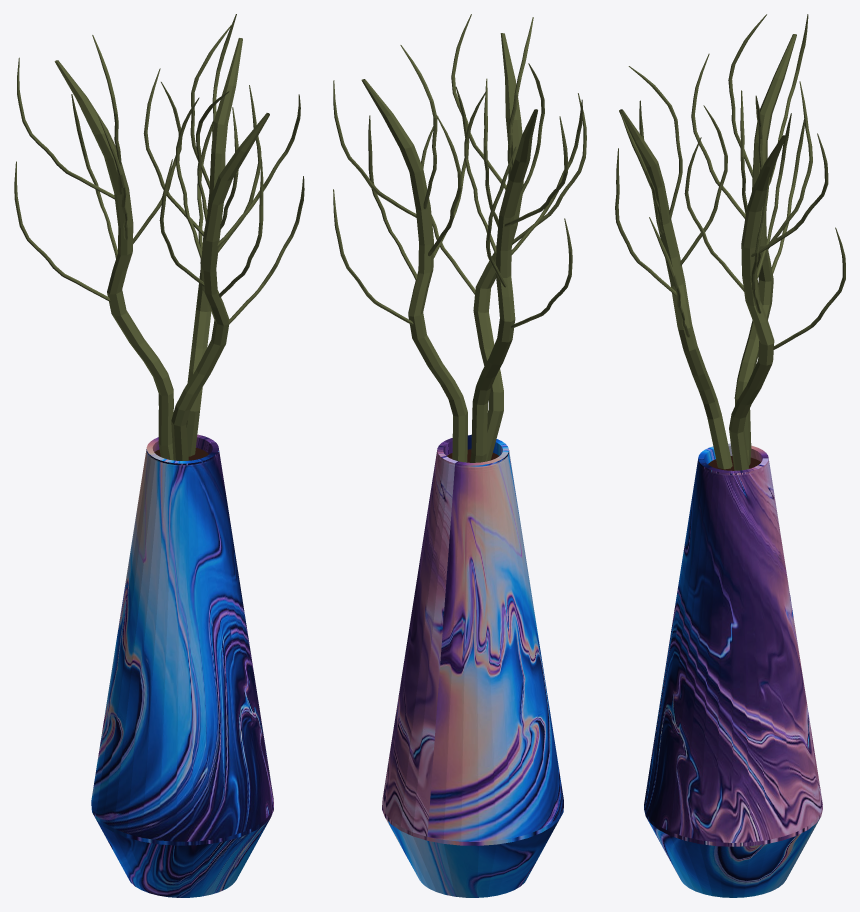
File: vase6.glb
3 views of the same model, side by side, from view 1: azimuth 30°, elevation 25°; view 2: azimuth 150°, elevation 25°; view 3: azimuth 270°, elevation 25° (orthographic). The views are drawn at different scales.
Visible parts, largest first — view 1: Cylinder, Circle.001, Circle.002, Circle; view 2: Cylinder, Circle, Circle.001, Circle.002; view 3: Cylinder, Circle, Circle.002, Circle.001.
Part boxes in pixels (x1,y1,x2,y2): Cylinder: (91, 434, 273, 897); Circle.001: (14, 35, 182, 460); Circle.002: (159, 91, 304, 460); Circle: (143, 14, 261, 456); Cylinder: (382, 435, 563, 897); Circle: (333, 45, 469, 462); Circle.001: (464, 63, 582, 462); Circle.002: (421, 14, 586, 461); Cylinder: (644, 443, 822, 897); Circle: (684, 95, 845, 470); Circle.002: (615, 66, 732, 469); Circle.001: (691, 14, 812, 465).
Size of the model in its own units: 2.91 by 10.18 by 2.58.
Materials: 3 (1 with a texture image).
